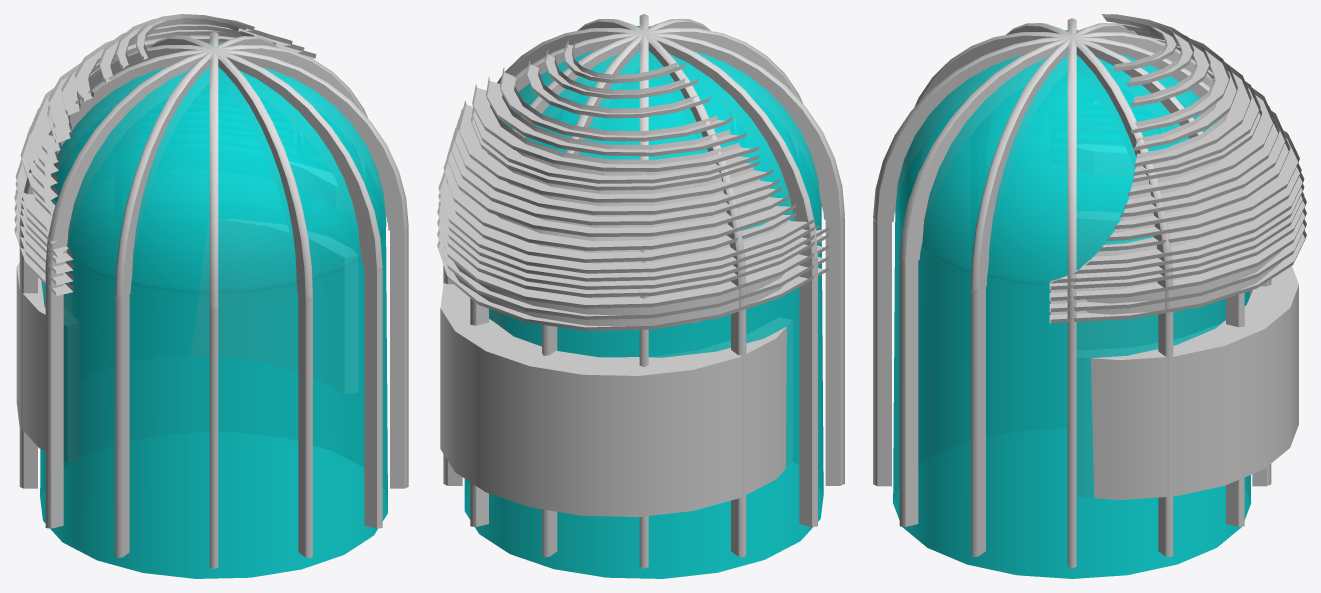
Rendered from rotunda.fbx.
3 views of the same model, side by side, from view 1: azimuth 30°, elevation 25°; view 2: azimuth 150°, elevation 25°; view 3: azimuth 270°, elevation 25° (orthographic). The views are drawn at different scales.
Parts seen in each view (by area): view 1: arch12; view 2: arch12; view 3: arch12.
Part boxes in pixels (x1,y1,x2,y2): arch12: [14, 14, 408, 578]; arch12: [437, 14, 844, 578]; arch12: [873, 14, 1306, 578].
Bounding box in the file's own units: 6.83 × 8.78 × 7.4.
